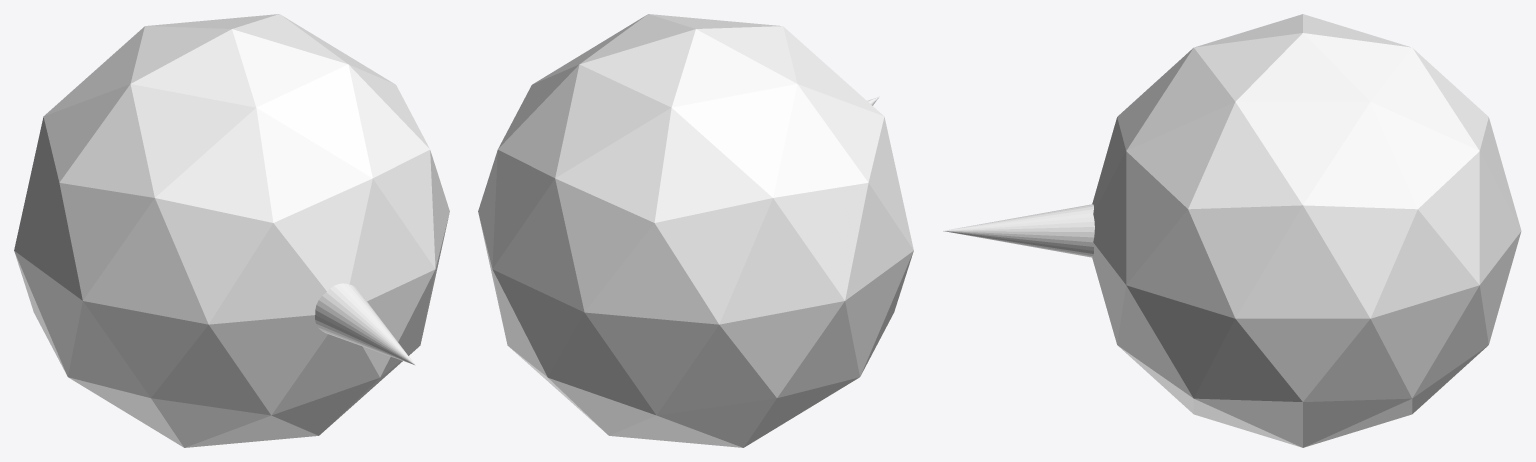
The model's file is Player.obj.
The picture shows the model from 3 angles, left to right: view 1: azimuth 30°, elevation 25°; view 2: azimuth 150°, elevation 25°; view 3: azimuth 270°, elevation 25°; orthographic projection.
Visible parts, largest first — view 1: 円錐; view 2: 円錐; view 3: 円錐.
Boxes of the visible parts, bbox=[...] form: 円錐: bbox=[14, 14, 449, 447]; 円錐: bbox=[478, 14, 913, 447]; 円錐: bbox=[943, 14, 1521, 447].
Size of the model in its own units: 1.9 by 2 by 2.65.
